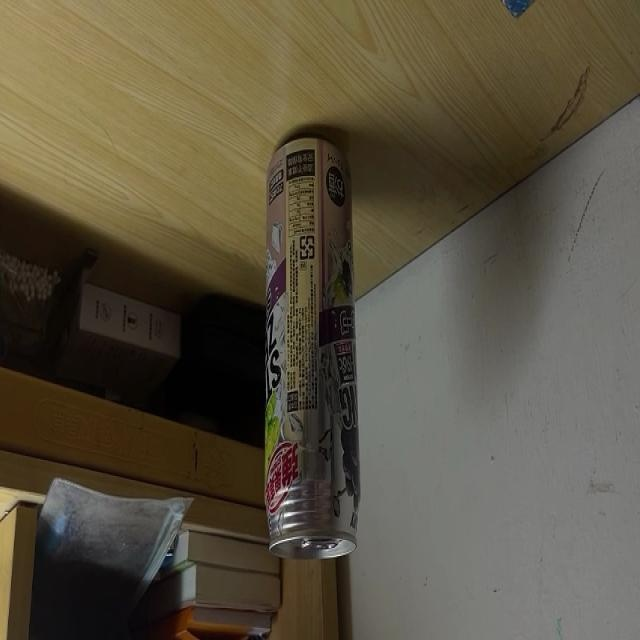Liquor: (264, 135, 361, 562)
